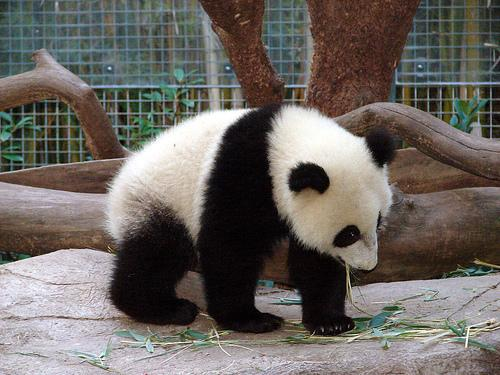panda: (107, 105, 396, 333)
